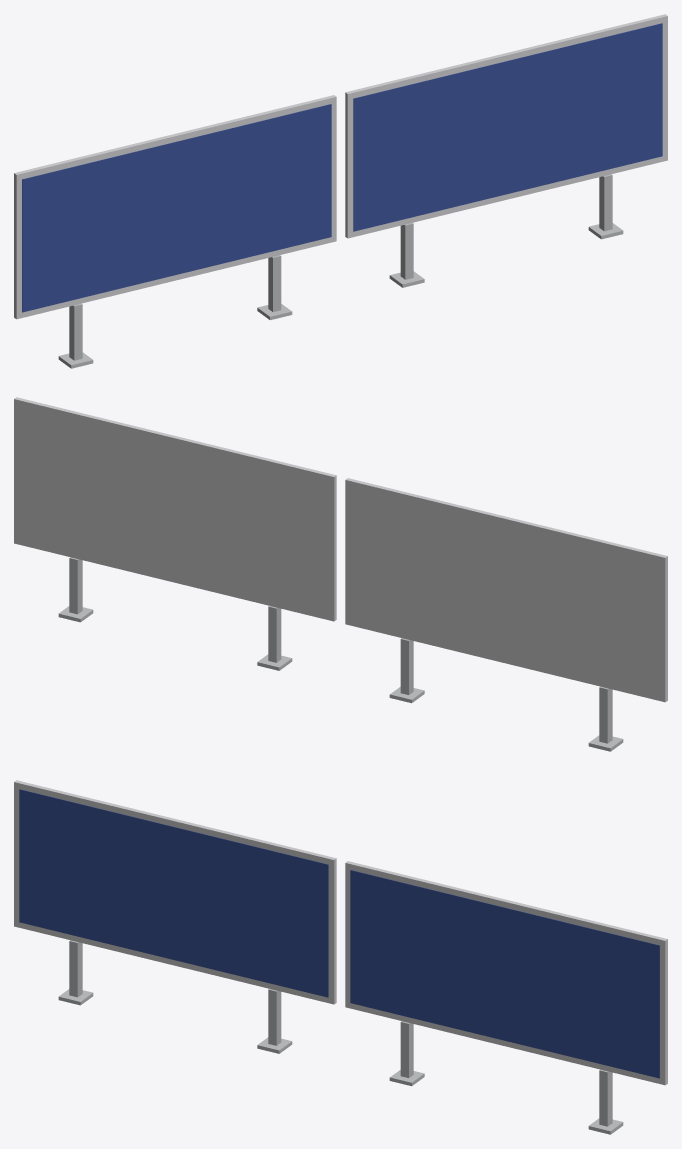
The model's file is solar_array.glb.
3 renders of one model, top to bottom at view 1: azimuth 30°, elevation 25°; view 2: azimuth 150°, elevation 25°; view 3: azimuth 330°, elevation 25°, orthographic.
Parts seen in each view (by area): view 1: cells_b, cells_a, panel_b, panel_a, post_0, post_2, post_1, post_3; view 2: panel_b, panel_a, post_0, post_2, post_1, post_3; view 3: cells_a, cells_b, panel_a, panel_b, post_3, post_1, post_0, post_2.
Part boxes in pixels (x1,y1,x2,y2): cells_b: (353, 23, 662, 231); cells_a: (22, 104, 331, 312); panel_b: (345, 14, 667, 238); panel_a: (14, 95, 336, 319); post_0: (69, 303, 82, 360); post_2: (400, 223, 413, 279); post_1: (268, 255, 281, 311); post_3: (599, 174, 612, 231); panel_b: (14, 397, 336, 621); panel_a: (345, 478, 667, 702); post_0: (599, 686, 612, 743); post_2: (268, 606, 281, 662); post_1: (400, 638, 413, 694); post_3: (69, 557, 82, 614); cells_a: (19, 789, 328, 997); cells_b: (350, 870, 659, 1078); panel_a: (14, 780, 336, 1004); panel_b: (345, 861, 667, 1085); post_3: (599, 1069, 612, 1126); post_1: (268, 989, 281, 1045); post_0: (69, 940, 82, 997); post_2: (400, 1021, 413, 1077).
Bounding box in the file's own units: 11.8 × 3.5 × 0.4.
